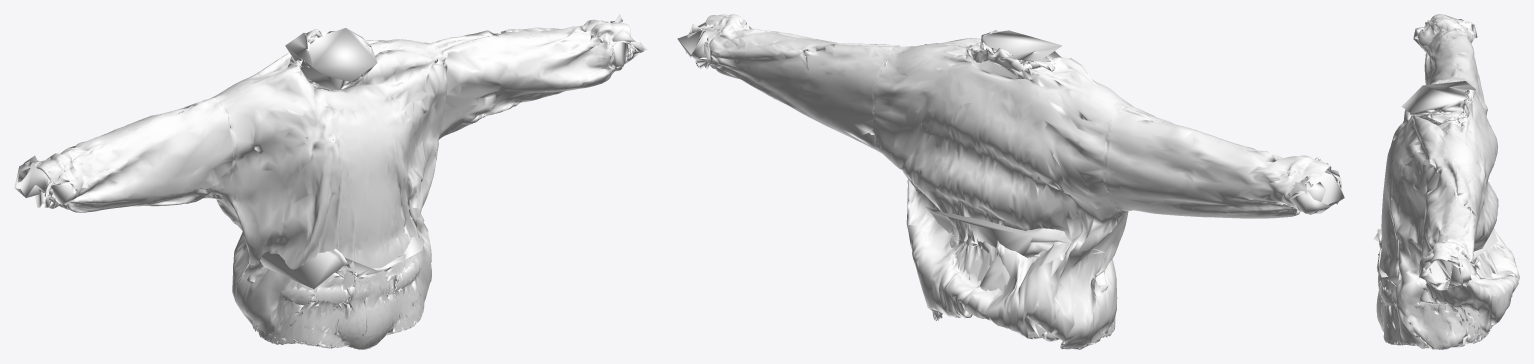
File: 0e3f35d8-9bf6-4389-9f85-178cbe525e73.glb
3 renders of one model, left to right at view 1: azimuth 30°, elevation 25°; view 2: azimuth 150°, elevation 25°; view 3: azimuth 270°, elevation 25°, orthographic. The views are drawn at different scales.
Parts seen in each view (by area): view 1: Mesh_0.001; view 2: Mesh_0.001; view 3: Mesh_0.001.
Boxes of the visible parts, x1,y1,x2,y2 form: Mesh_0.001: [14, 14, 647, 349]; Mesh_0.001: [677, 14, 1344, 349]; Mesh_0.001: [1373, 14, 1519, 349].
Size of the model in its own units: 1.8 by 0.7925 by 0.4359.
Materials: 1 (1 with a texture image).
